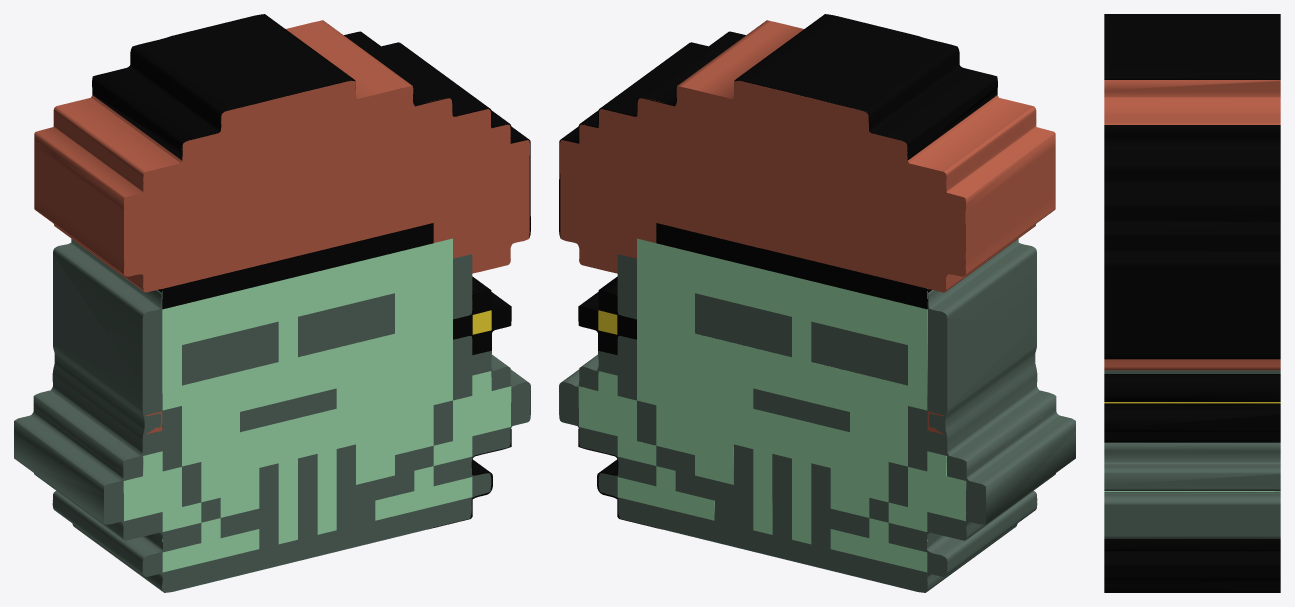
Rendered from Toadz_2030.glb.
3 renders of one model, left to right at view 1: azimuth 30°, elevation 25°; view 2: azimuth 150°, elevation 25°; view 3: azimuth 270°, elevation 25°, orthographic.
Parts seen in each view (by area): view 1: Curve; view 2: Curve; view 3: Curve.
Boxes of the visible parts, <box> form: Curve: <box>14,14,530,592</box>; Curve: <box>559,14,1075,592</box>; Curve: <box>1104,14,1280,592</box>.
Bounding box in the file's own units: 2.74 × 2.88 × 1.
